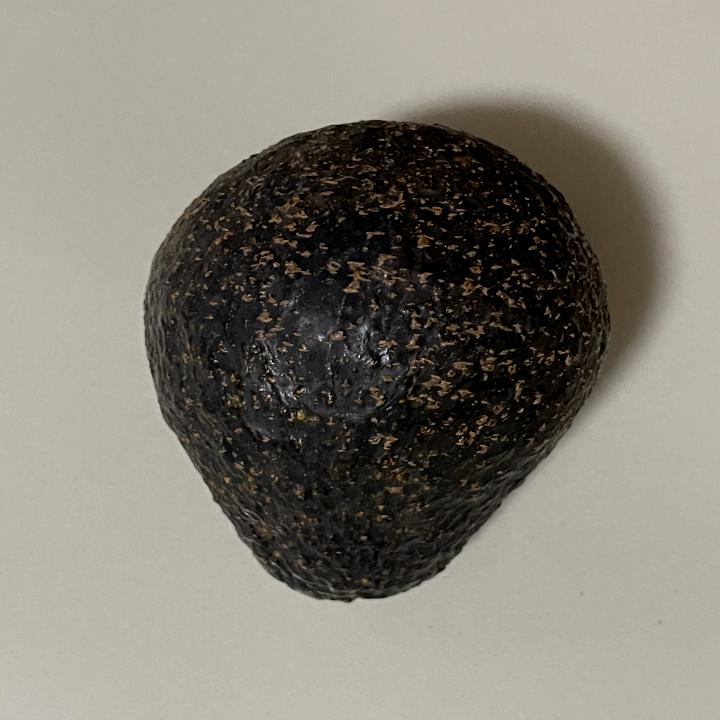Level3: (129, 112, 622, 616)
